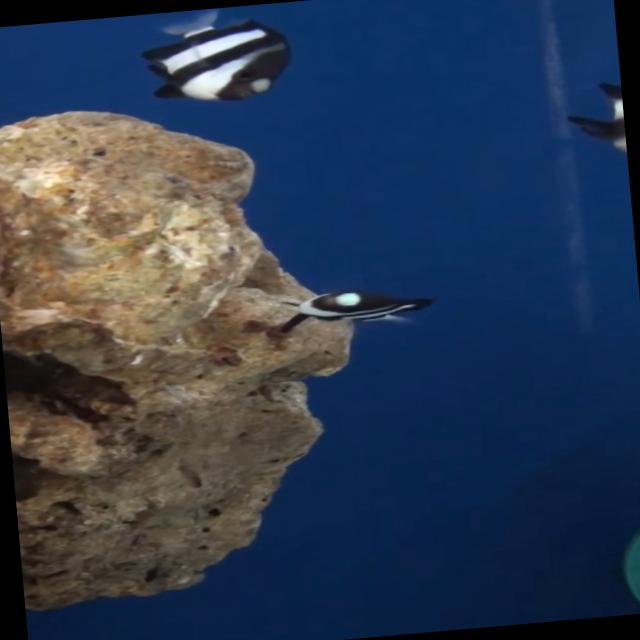ThreeStripedDamselfish: (139, 11, 289, 101), (277, 290, 431, 332)
